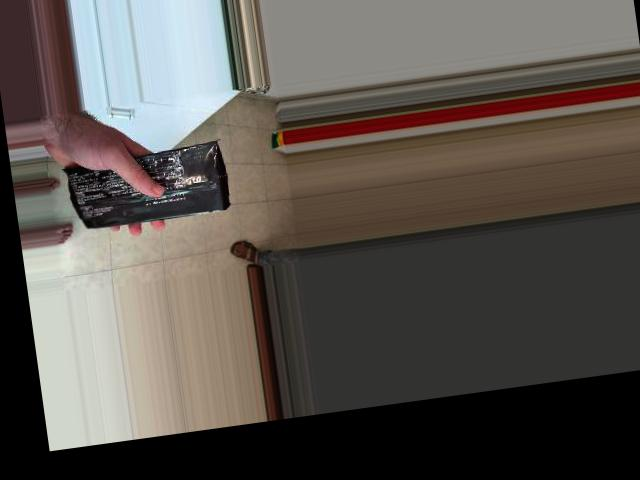chocolate: (64, 139, 237, 232)
